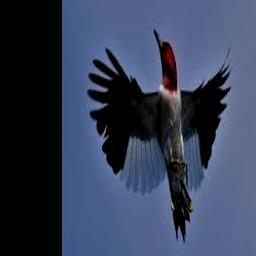Woodpecker: (88, 29, 232, 241)
